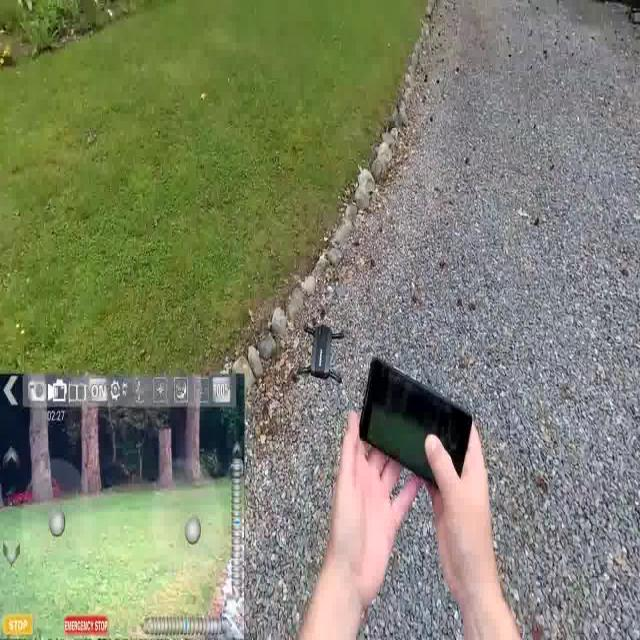Drone_FW: (292, 304, 348, 400)
